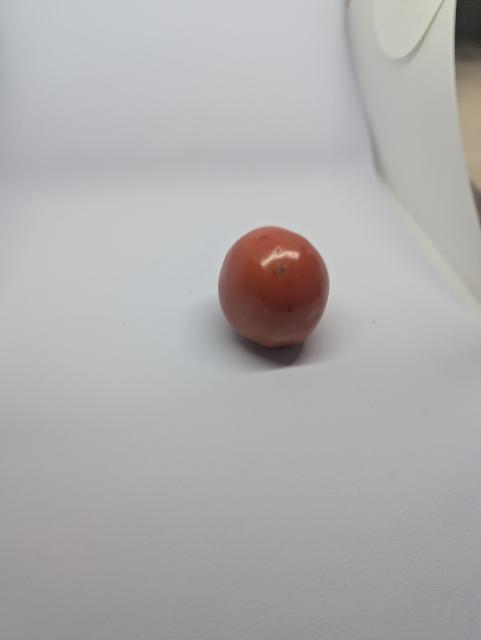red: (207, 212, 342, 369)
